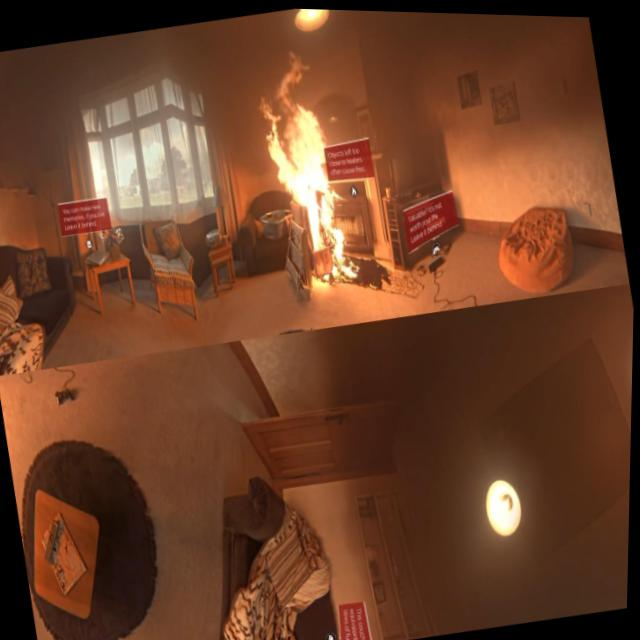fire: (247, 56, 367, 293)
